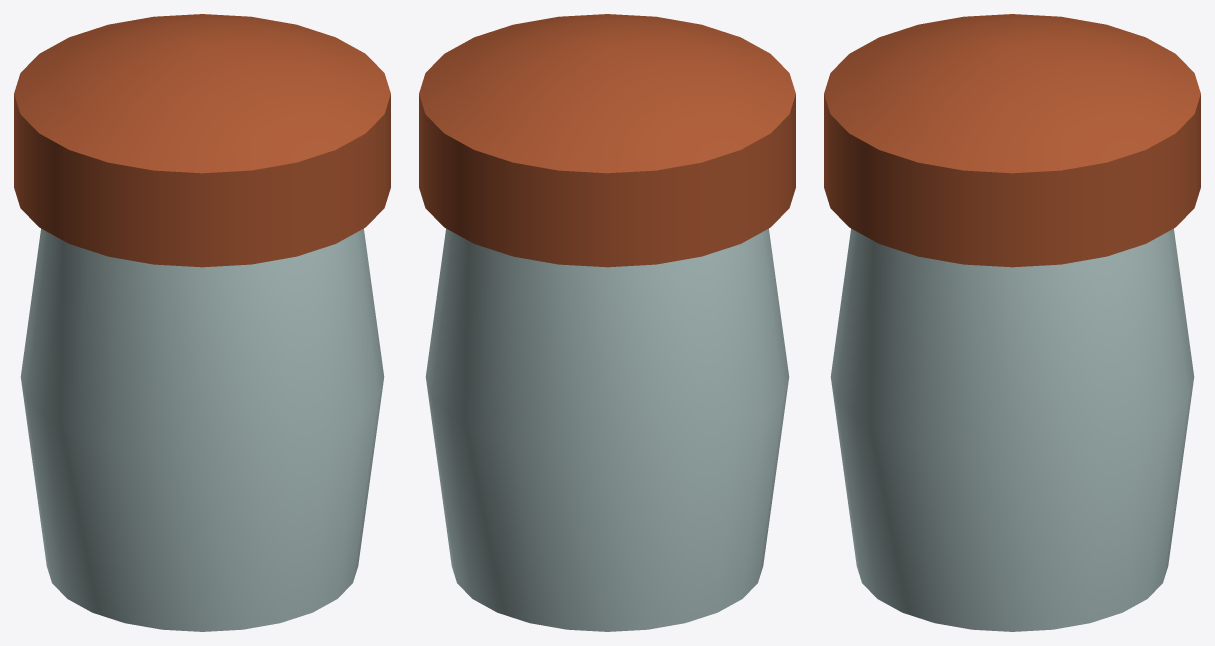
The model's file is decor_flask2.fbx.
3 views of the same model, side by side, from view 1: azimuth 30°, elevation 25°; view 2: azimuth 150°, elevation 25°; view 3: azimuth 270°, elevation 25° (orthographic).
Parts seen in each view (by area): view 1: decor_flask2; view 2: decor_flask2; view 3: decor_flask2.
Boxes of the visible parts, x1,y1,x2,y2 form: decor_flask2: (14, 14, 390, 631); decor_flask2: (419, 14, 795, 631); decor_flask2: (824, 14, 1200, 631).
Size of the model in its own units: 9.39 by 14.3 by 9.39.
